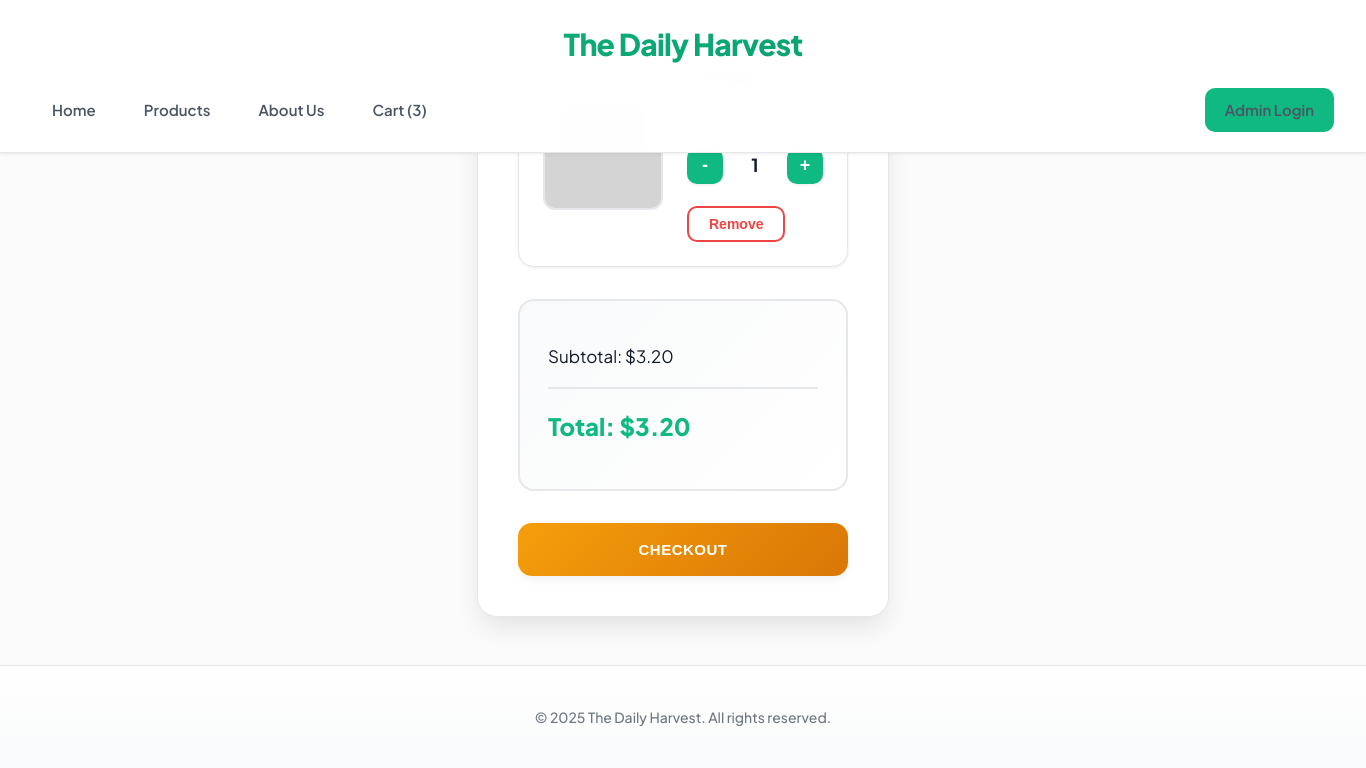
Scenario: CartPage › should open the checkout modal when "Checkout" is clicked
(page scrolled)
Click the button "Checkout": (683, 549) [518, 523, 848, 576]
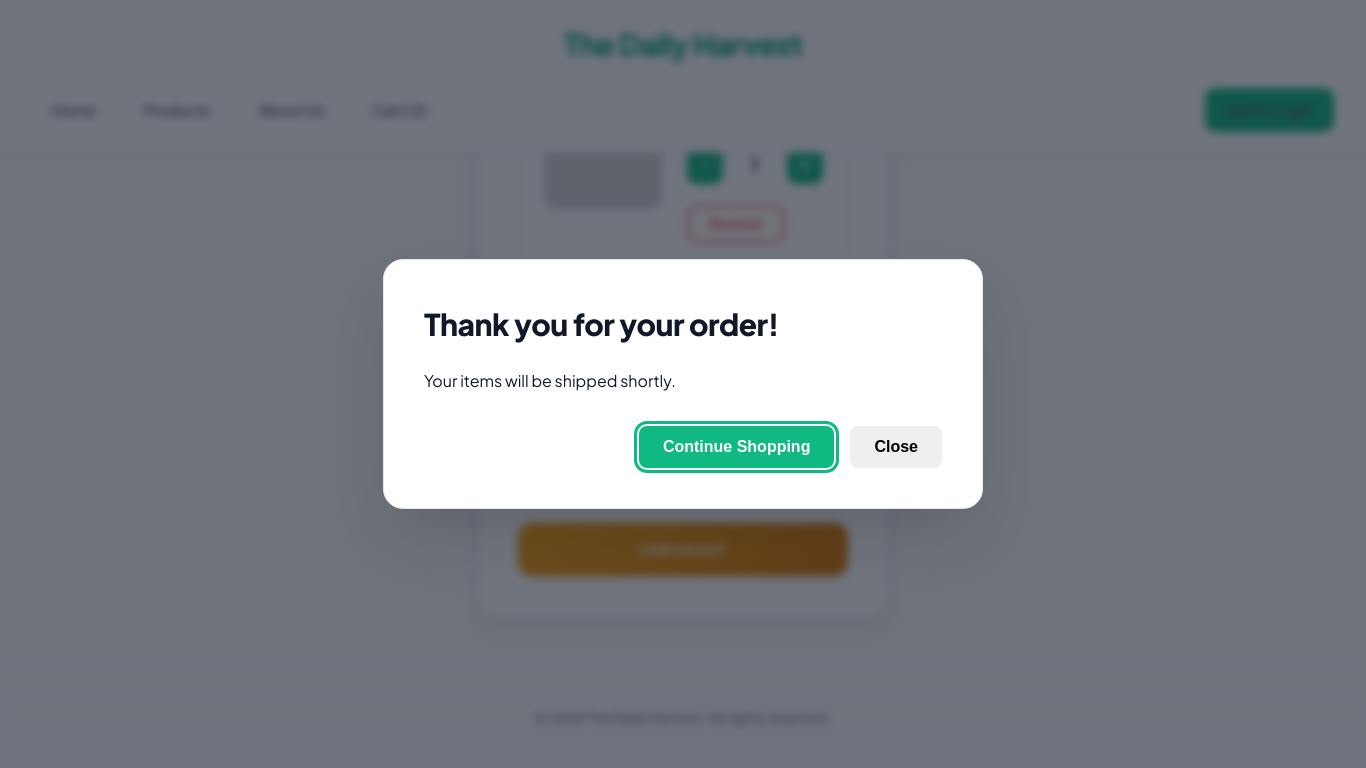
expect the dialog is shown: met, box [383, 259, 983, 509]
